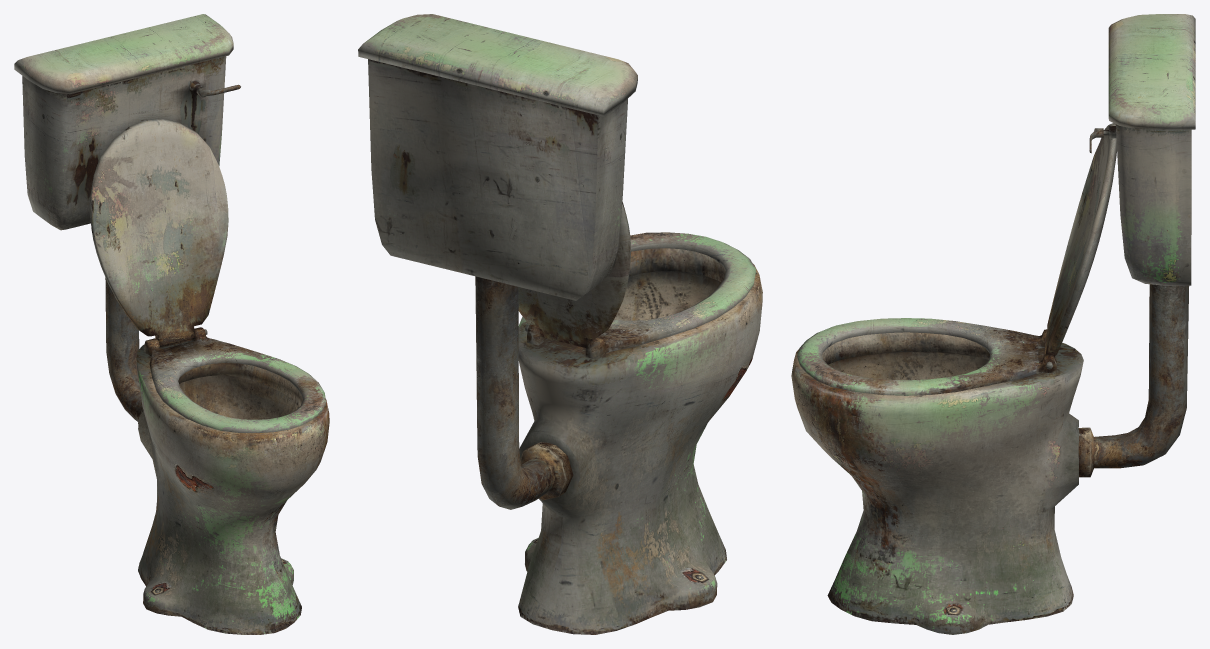
3 renders of one model, left to right at view 1: azimuth 30°, elevation 25°; view 2: azimuth 150°, elevation 25°; view 3: azimuth 270°, elevation 25°, orthographic. The views are drawn at different scales.
Visible parts, largest first — view 1: polySurface1696; view 2: polySurface1696; view 3: polySurface1696.
Part boxes in pixels (bbox=[...]): polySurface1696: bbox=[14, 14, 329, 634]; polySurface1696: bbox=[358, 14, 762, 634]; polySurface1696: bbox=[791, 14, 1195, 634].
Size of the model in its own units: 2.6 by 6.17 by 4.23.
1 material, 1 textured.
